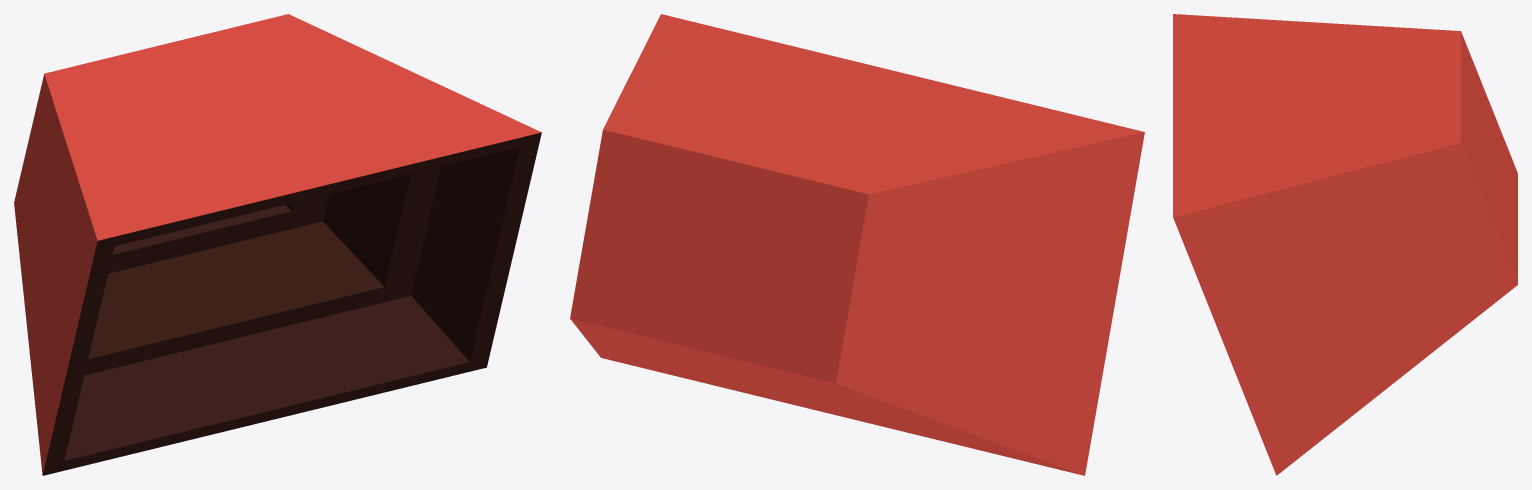
The model's file is Vacuum.fbx.
3 views of the same model, side by side, from view 1: azimuth 30°, elevation 25°; view 2: azimuth 150°, elevation 25°; view 3: azimuth 270°, elevation 25° (orthographic). The views are drawn at different scales.
Visible parts, largest first — view 1: Cylinder.002; view 2: Cylinder.002; view 3: Cylinder.002.
Boxes of the visible parts, x1,y1,x2,y2 form: Cylinder.002: [14, 14, 541, 475]; Cylinder.002: [570, 14, 1144, 475]; Cylinder.002: [1173, 14, 1517, 475].
Bounding box in the file's own units: 307 × 202 × 220.
